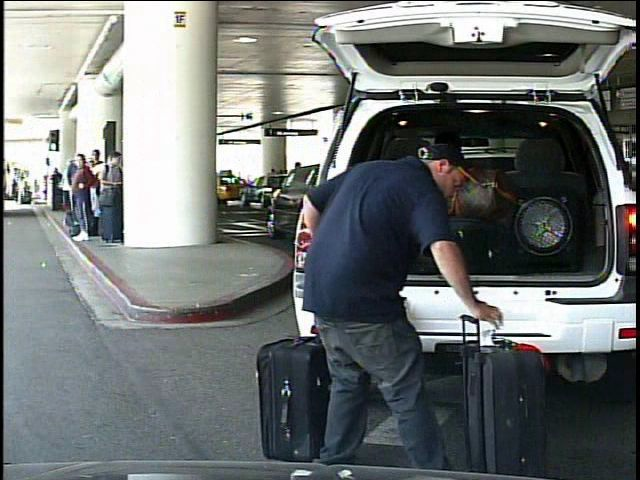person: (297, 106, 513, 480), (18, 176, 29, 207)
